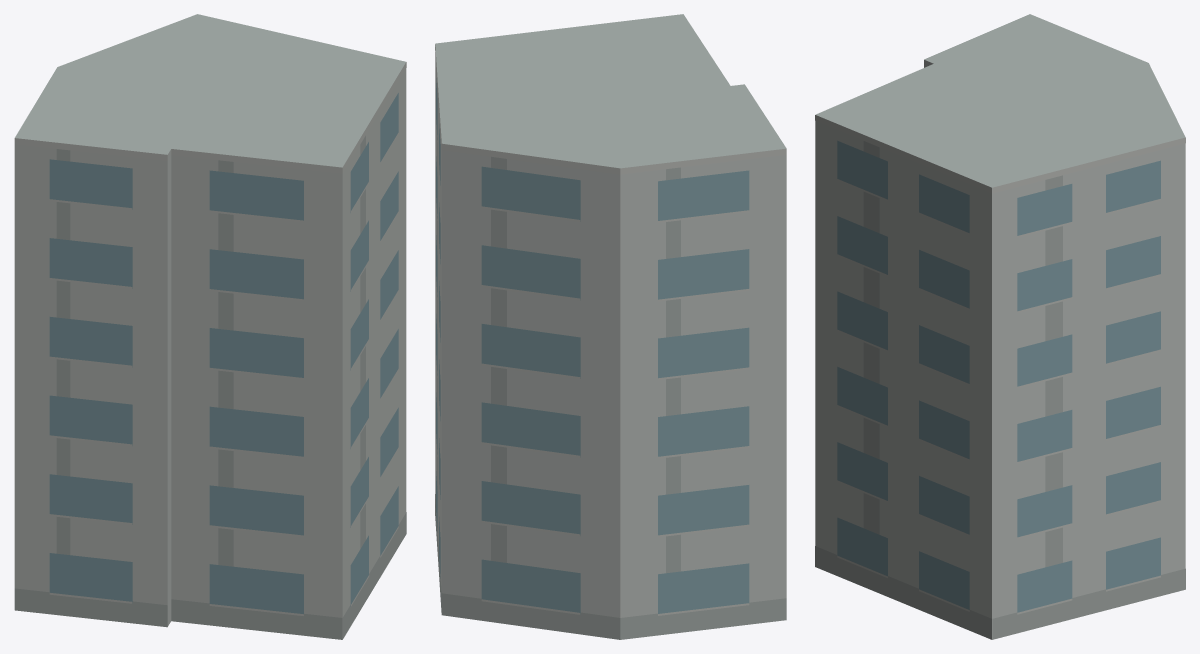
Rendered from residential-17f3100b-a7f4-4003-89c1-ce8439482c7a.glb.
3 views of the same model, side by side, from view 1: azimuth 30°, elevation 25°; view 2: azimuth 150°, elevation 25°; view 3: azimuth 270°, elevation 25° (orthographic). The views are drawn at different scales.
Parts seen in each view (by area): view 1: residential-17f3100b-a7f4-4003-89c1-ce8439482c7a.tmp; view 2: residential-17f3100b-a7f4-4003-89c1-ce8439482c7a.tmp; view 3: residential-17f3100b-a7f4-4003-89c1-ce8439482c7a.tmp.
Boxes of the visible parts, x1,y1,x2,y2 form: residential-17f3100b-a7f4-4003-89c1-ce8439482c7a.tmp: [14, 14, 406, 639]; residential-17f3100b-a7f4-4003-89c1-ce8439482c7a.tmp: [435, 14, 786, 639]; residential-17f3100b-a7f4-4003-89c1-ce8439482c7a.tmp: [815, 14, 1185, 639].
Size of the model in its own units: 15.09 by 18.3 by 13.6.
